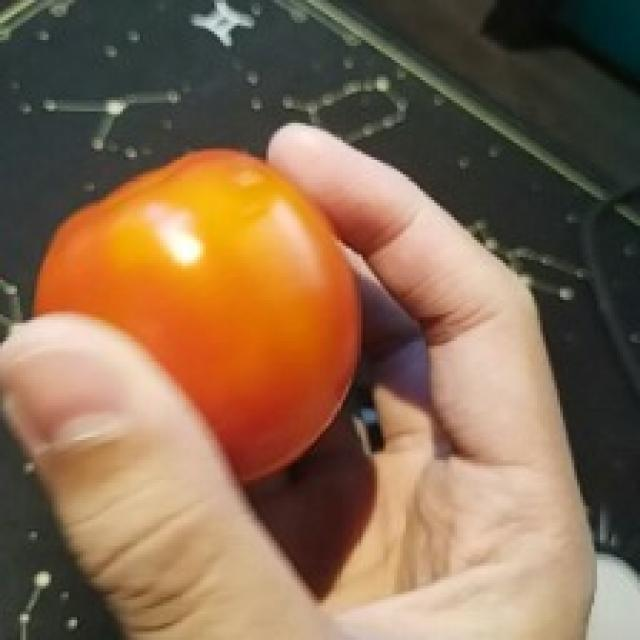Fresh Tomato: (9, 144, 387, 518)
